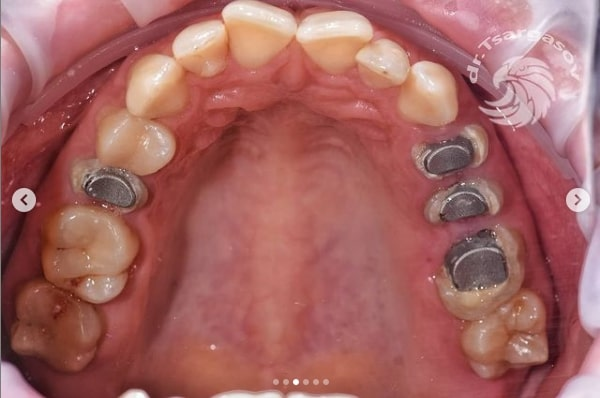UL1BC_decay: (411, 124, 489, 180)
UL1M_decay: (435, 228, 522, 318)
UL2BC_decay: (418, 179, 505, 226)
UL2M_decay: (465, 290, 548, 379)
ULCI_healthy: (296, 11, 371, 71)
ULC_healthy: (399, 61, 458, 124)
ULLI_healthy: (358, 38, 407, 89)
UR1BC_healthy: (96, 113, 174, 168)
UR1M_decay: (43, 209, 134, 301)
UR2BC_decay: (73, 162, 147, 215)
UR2M_decay: (11, 285, 99, 372)
URCI_healthy: (223, 3, 295, 65)
URC_healthy: (127, 54, 185, 117)
URLI_healthy: (172, 20, 226, 76)
